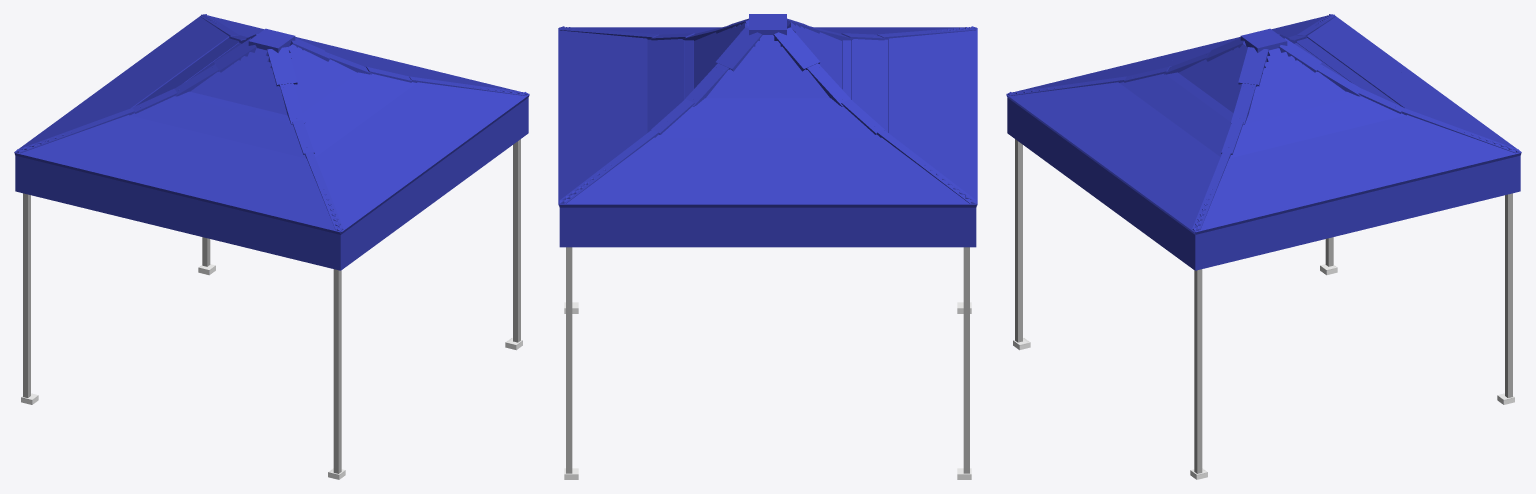
The model's file is tent_blue_y30.obj.
The picture shows the model from 3 angles, left to right: view 1: azimuth 30°, elevation 25°; view 2: azimuth 150°, elevation 25°; view 3: azimuth 270°, elevation 25°; orthographic projection. The views are drawn at different scales.
Visible parts, largest first — view 1: text2, text3, cube1.005, stem3, cube1.004, stem1, stem4, cube2.005, cube3.005, cube4.005, cube5.001, cube6.001 (+48 smaller); view 2: text1, cube1.003, cube2.003, cube3.003, cube4.003, cube5, cube6, cube7, cube8, stem1, stem2, cube13 (+71 smaller); view 3: text0, text3, cube1.006, stem4, cube1.004, stem2, stem3, cube2.006, cube3.006, cube4.006, cube5.002, cube6.002 (+48 smaller).
Part boxes in pixels (x1,y1,x2,y2): text2: (15,155,343,270); text3: (343,99,525,268); cube1.005: (14,149,342,234); stem3: (333,269,341,473); cube1.004: (336,92,529,236); stem1: (23,193,30,397); stem4: (513,139,520,342); cube2.005: (22,146,340,227); cube3.005: (30,144,338,222); cube4.005: (38,141,335,216); cube5.001: (46,139,333,211); cube6.001: (54,136,331,206); text1: (566,207,969,247); cube1.003: (559,200,976,207); cube2.003: (566,196,969,200); cube3.003: (572,191,963,195); cube4.003: (578,187,957,191); cube5: (585,182,950,186); cube6: (591,178,944,182); cube7: (597,173,938,177); cube8: (604,169,931,173); stem1: (963,247,969,473); stem2: (566,247,572,473); cube13: (636,146,899,151); text0: (1192,156,1520,270); text3: (1010,99,1192,268); cube1.006: (1192,149,1521,235); stem4: (1194,269,1202,473); cube1.004: (1006,92,1198,236); stem2: (1505,193,1512,397); stem3: (1015,139,1022,342); cube2.006: (1195,146,1513,227); cube3.006: (1197,144,1505,222); cube4.006: (1200,141,1497,216); cube5.002: (1202,139,1489,211); cube6.002: (1204,136,1481,206).
Bounding box in the file's own units: 5.09 × 3.66 × 5.09.
